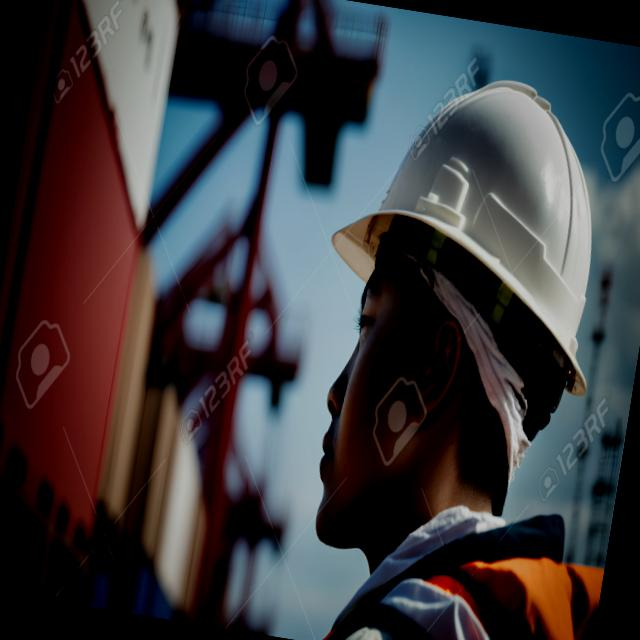helmet: (304, 47, 636, 441)
no-goggles: (322, 262, 462, 382)
